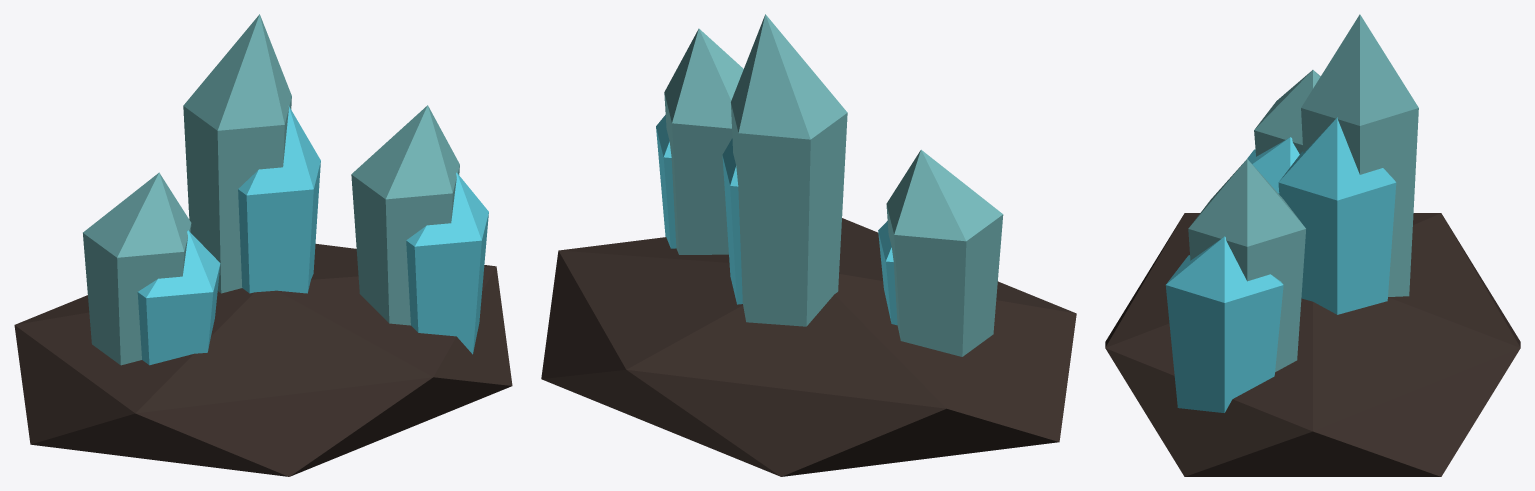
File: res_gems.glb
3 views of the same model, side by side, from view 1: azimuth 30°, elevation 25°; view 2: azimuth 150°, elevation 25°; view 3: azimuth 270°, elevation 25° (orthographic). The views are drawn at different scales.
Parts seen in each view (by area): view 1: res_gems; view 2: res_gems; view 3: res_gems.
Boxes of the visible parts, box(x1,y1,x2,y2) form: res_gems: box(14, 14, 512, 476); res_gems: box(541, 14, 1076, 476); res_gems: box(1105, 14, 1520, 476).
Size of the model in its own units: 0.3041 by 0.235 by 0.2212.
